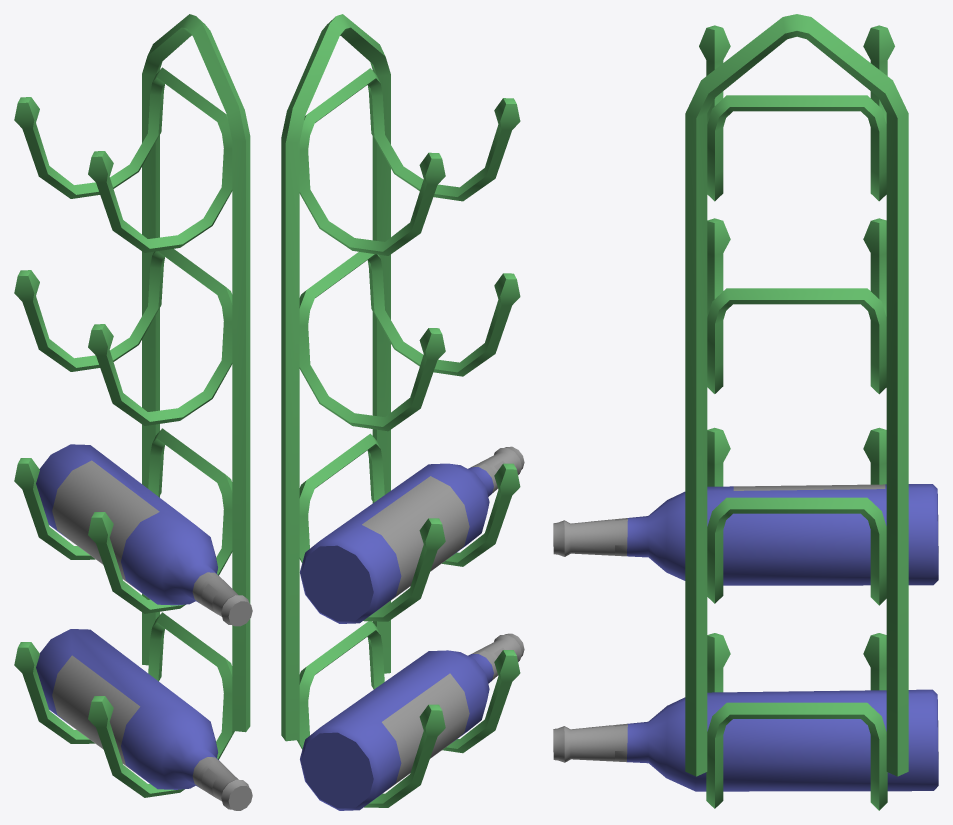
File: YJSJMJ16029.FBX
3 views of the same model, side by side, from view 1: azimuth 30°, elevation 25°; view 2: azimuth 150°, elevation 25°; view 3: azimuth 270°, elevation 25° (orthographic). The views are drawn at different scales.
Visible parts, largest first — view 1: YJSJMJ16029; view 2: YJSJMJ16029; view 3: YJSJMJ16029.
Part boxes in pixels (x1=…): YJSJMJ16029: x1=14, y1=14, x2=252, y2=810; YJSJMJ16029: x1=281, y1=14, x2=524, y2=810; YJSJMJ16029: x1=553, y1=14, x2=938, y2=810.
Size of the model in its own units: 13.16 by 25.58 by 60.33.
